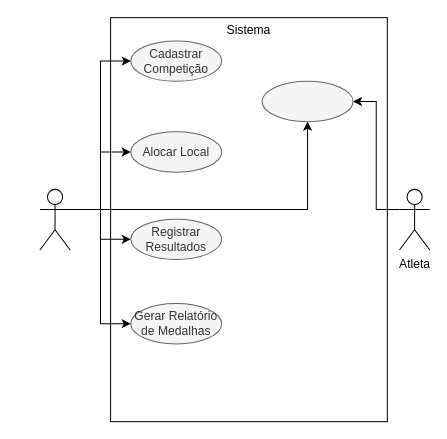
The diagram is 447 pixels wide and 439 high, and some of its shapes have lost their labels. Each missing label, with the centre of its shape:
"Administrador" belongs at pixel 54 219.
"Inscrever Atleta" belongs at pixel 307 101.
